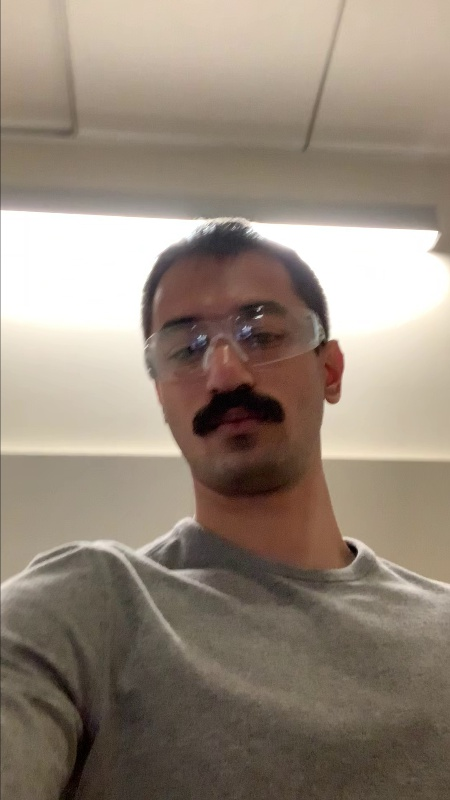glasses: (140, 314, 329, 364)
